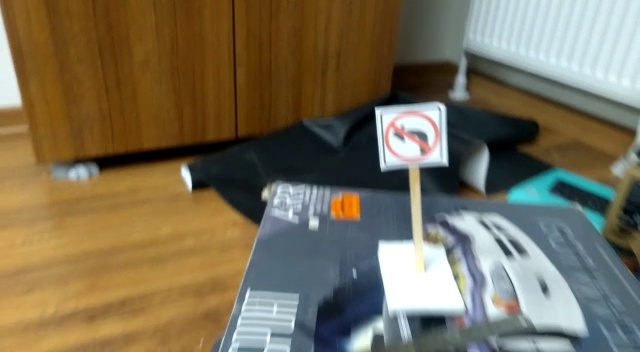sola_donulmez: (382, 104, 443, 168)
